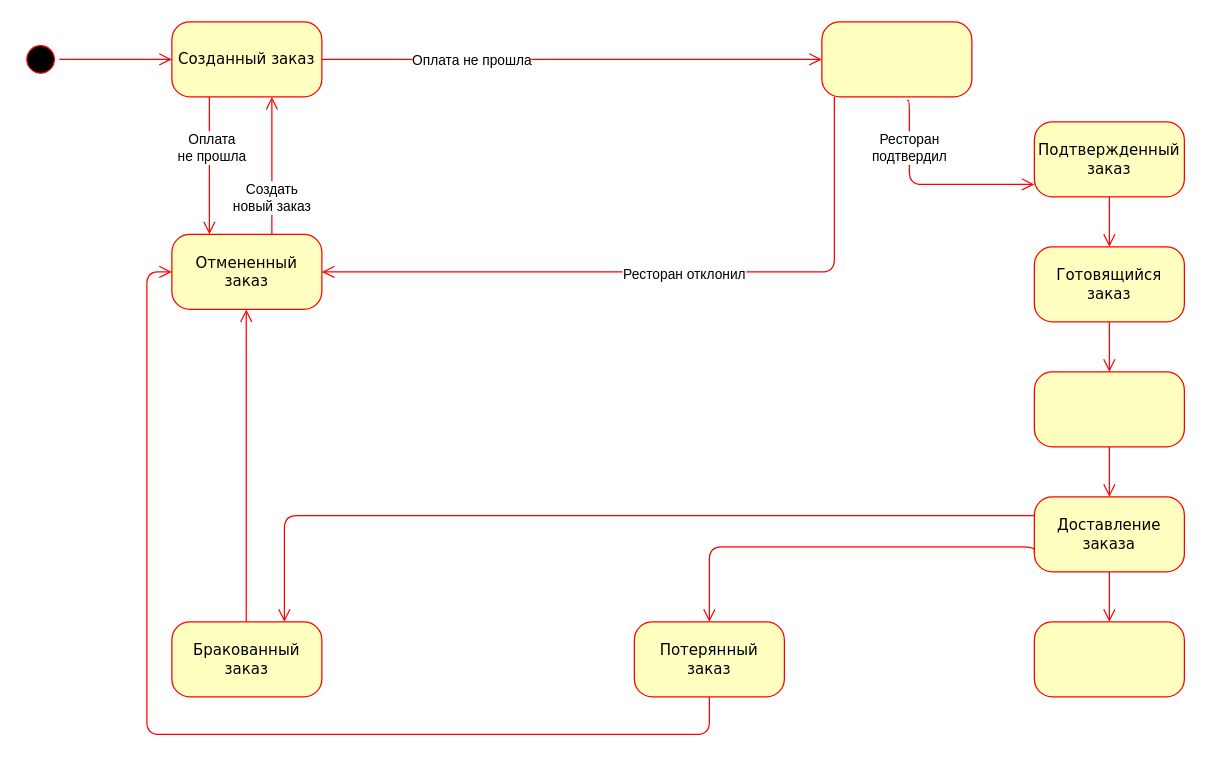
Image size: 1206x769. Some labels were removed from this diagram. The centre of each missing label's shape, as x and y in pixels:
"Оплаченный заказ" goes at point (896, 59).
"Приготовленный заказ" goes at point (1108, 409).
"Успешный заказ" goes at point (1108, 659).
